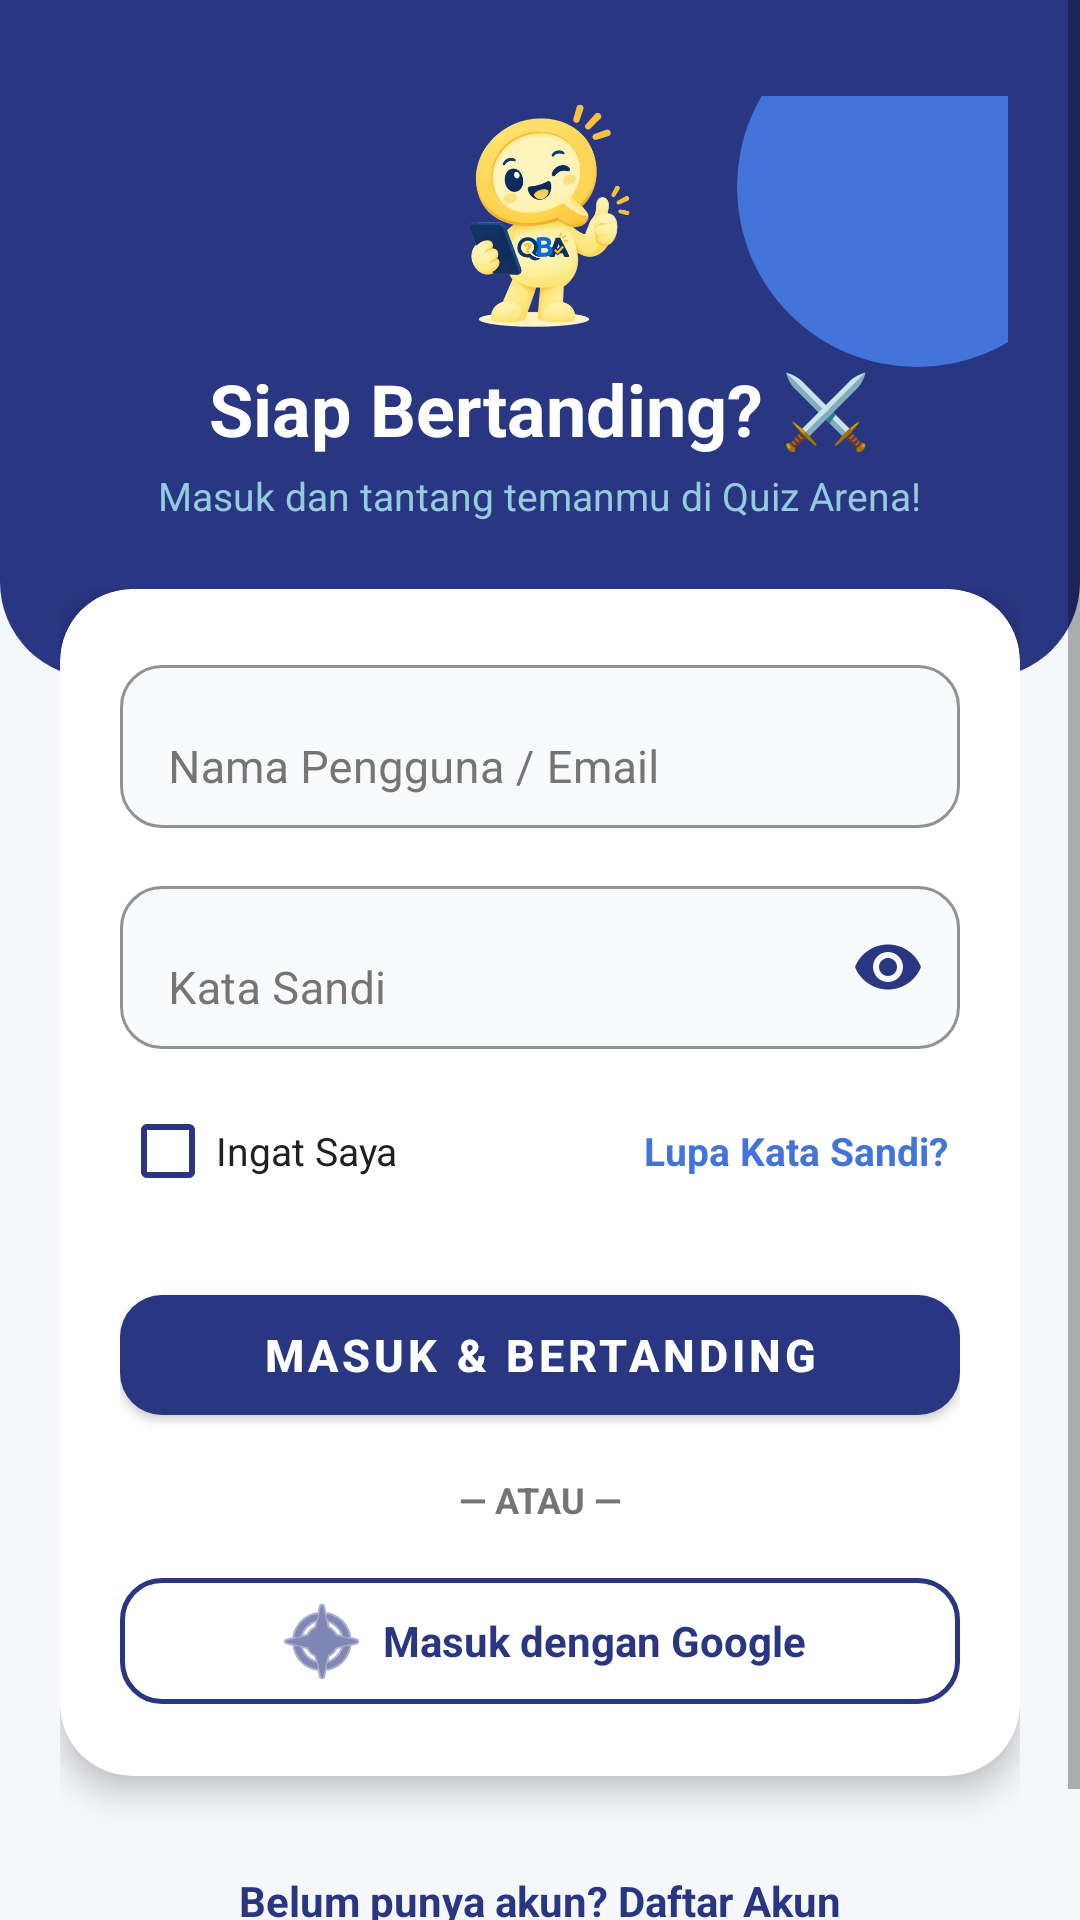

Named icons in this screenshot (1080*1920) and their centers, (x,y):
Maskot Game: (550,215)
